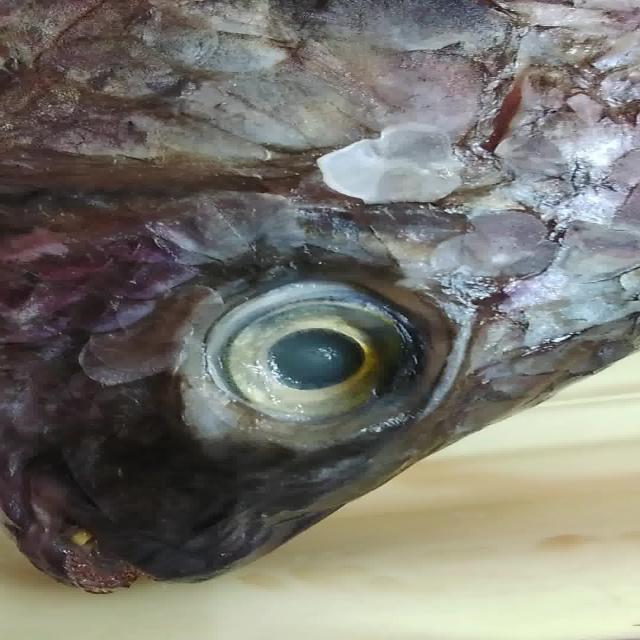Non-Fresh: (36, 9, 626, 264), (184, 269, 452, 454)
